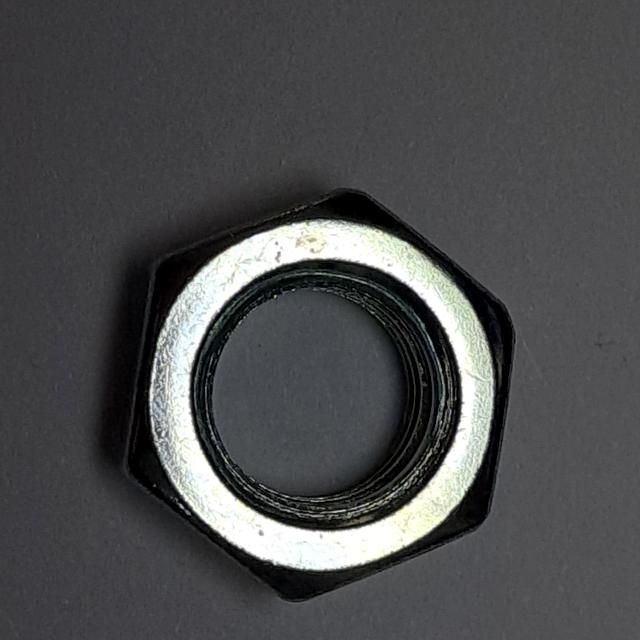Excellent: (111, 171, 527, 620)
